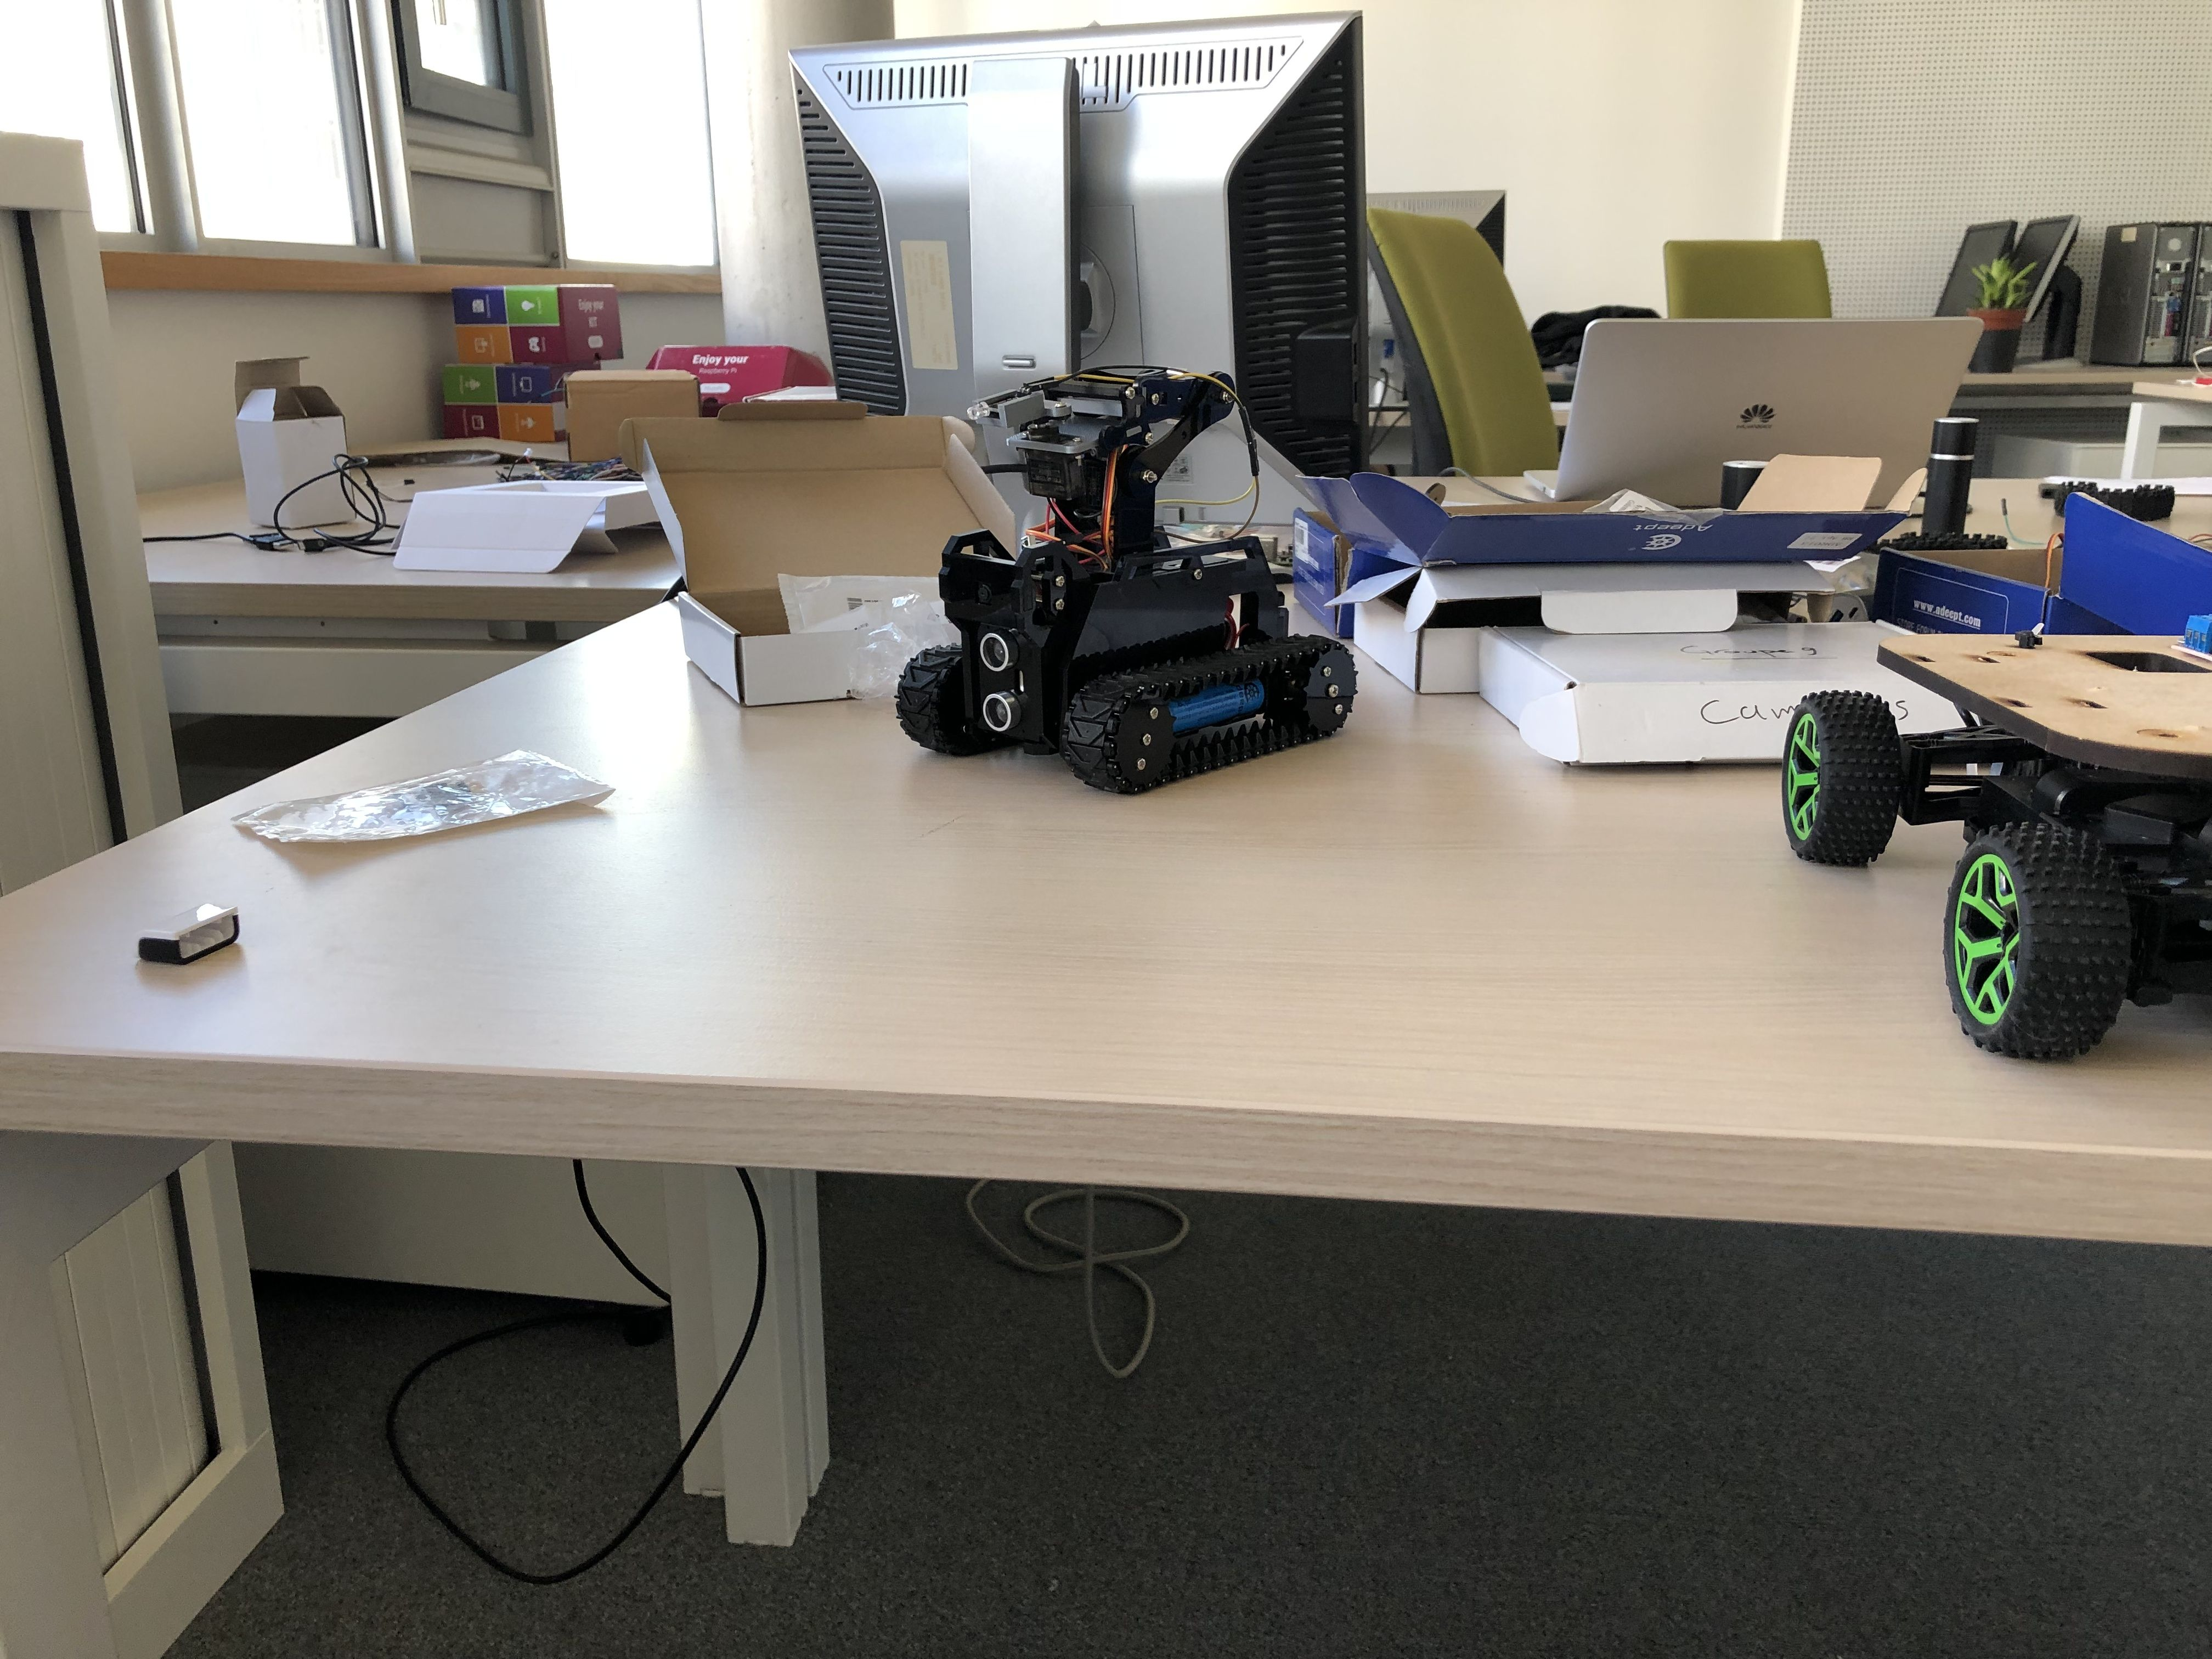rasptank: (894, 361, 1369, 800)
